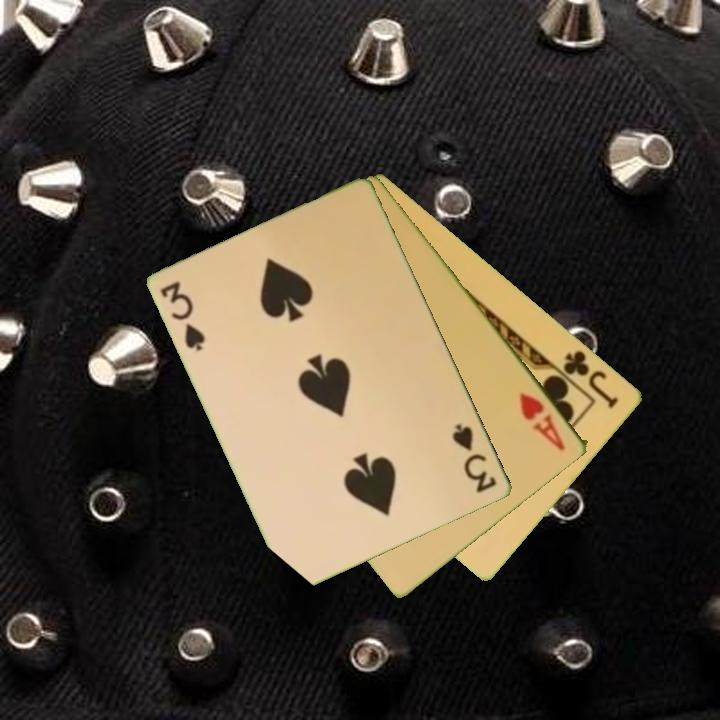3s: (157, 278, 209, 355), (449, 420, 501, 496)
Ah: (516, 388, 569, 454)
Jc: (560, 346, 623, 412)
